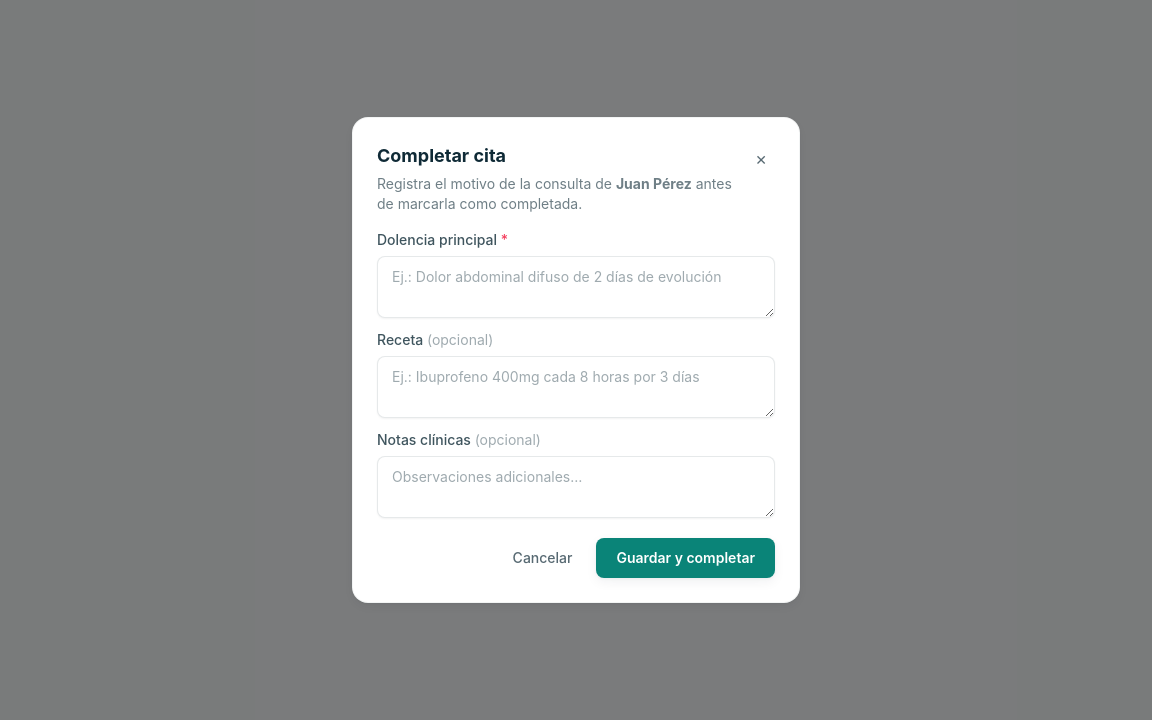
Test: <ModalCompletarCita /> › muestra un mensaje genérico si el error no es una instancia de Error
The width and height of the screenshot is (1152, 720).
Type "Gripe" into the text box labelled "Dolencia principal *". click: point(576, 287)
box: x1=377 y1=256 x2=775 y2=318
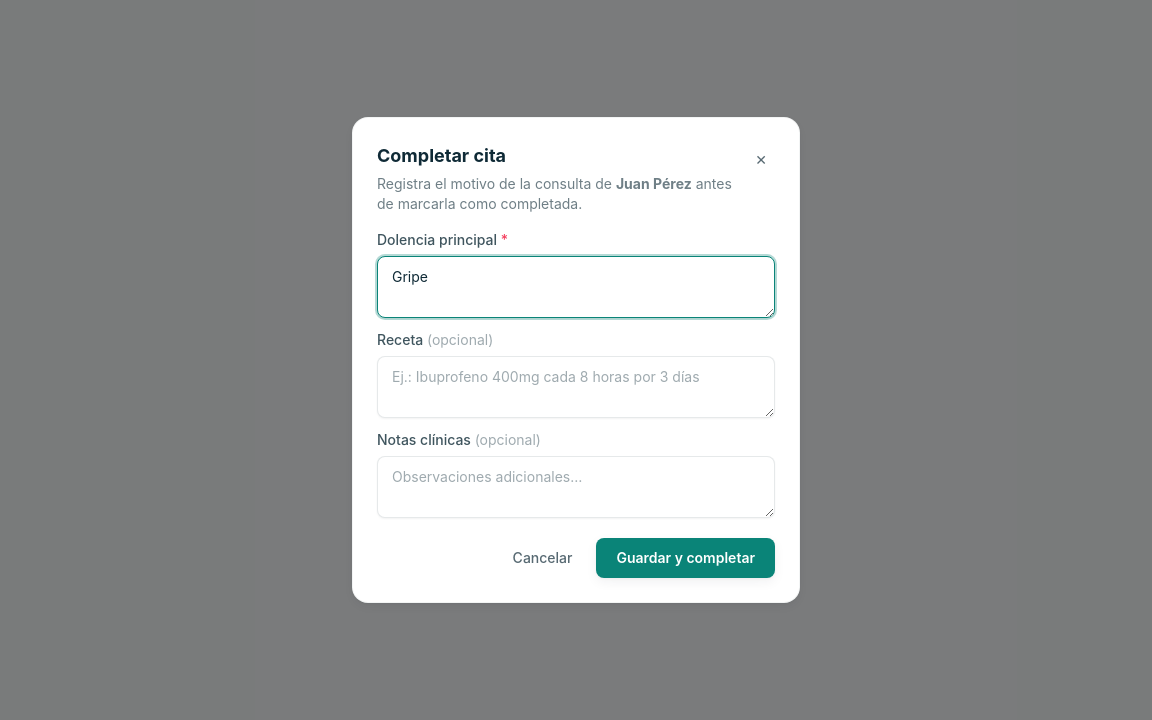
Click the button "Guardar y completar". click: point(686, 558)
box: x1=596 y1=538 x2=775 y2=578
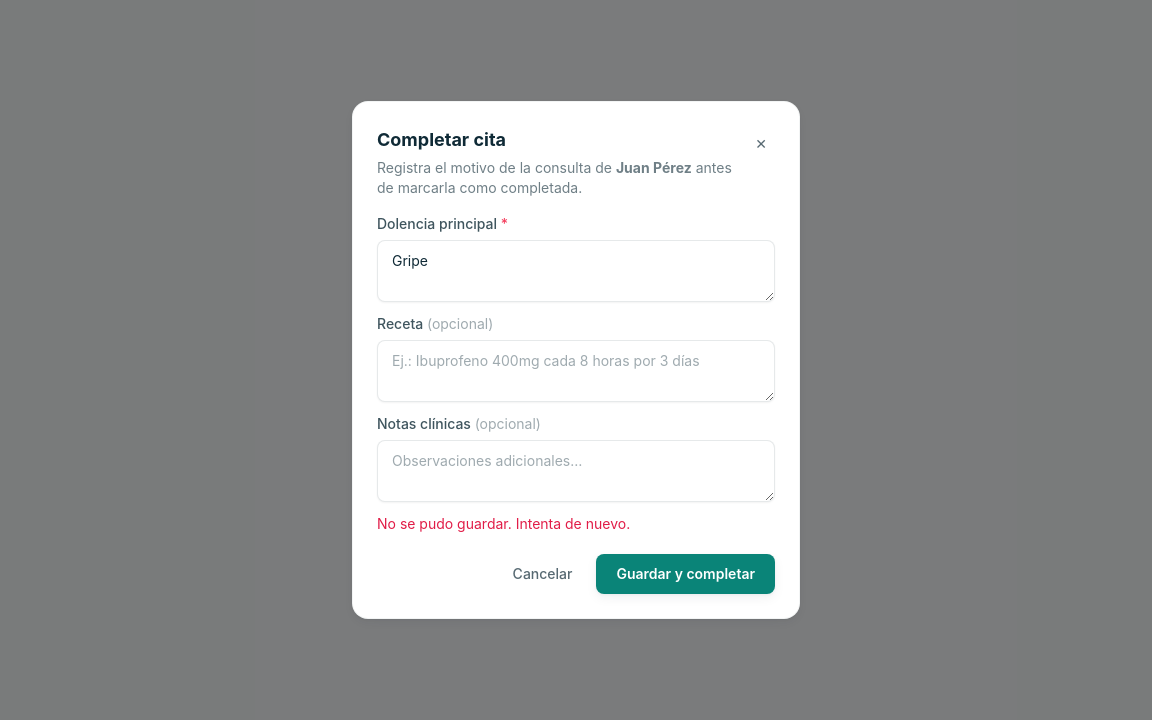
expect the message shows "No se pudo guardar": met, box x1=377 y1=515 x2=630 y2=532
